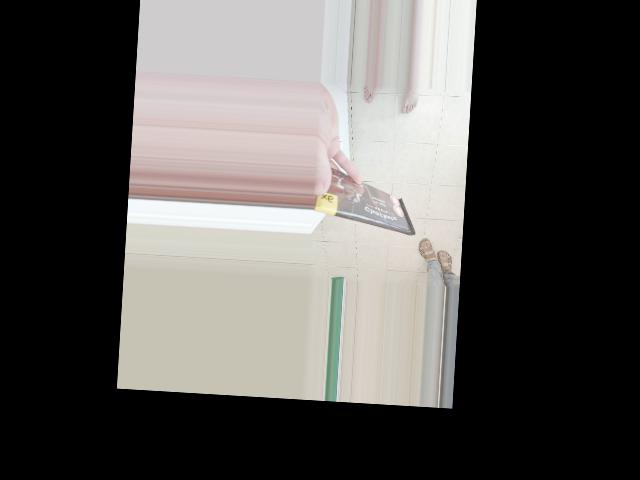chocolate: (310, 150, 422, 243)
